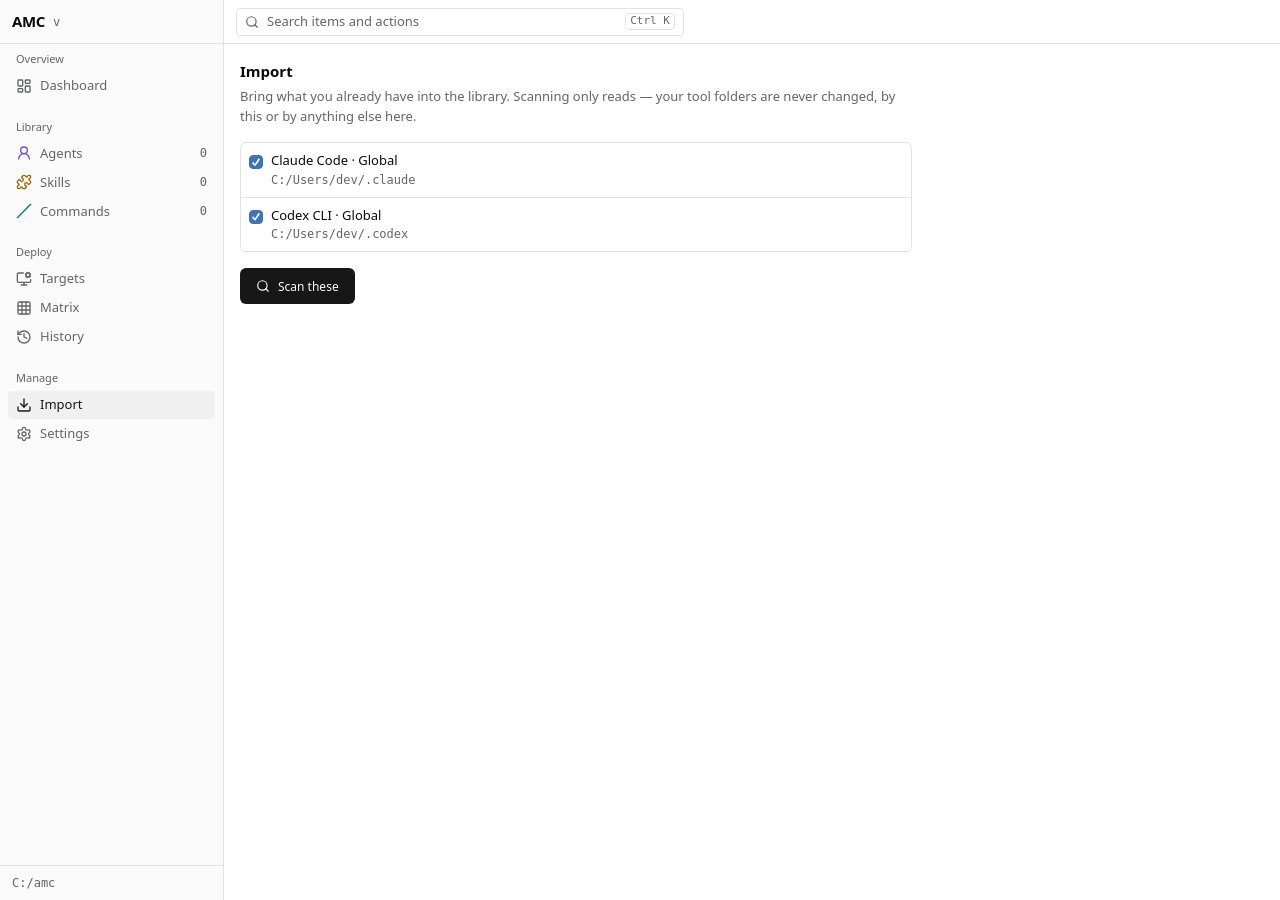
Test: reviewing what was found (T1.8.2, T1.8.5) › leaves out an item whose name is already taken, and proposes another
Step 1. Click the button "Scan these" → coordinates (297, 286), box top-left (240, 268), bottom-right (355, 304)
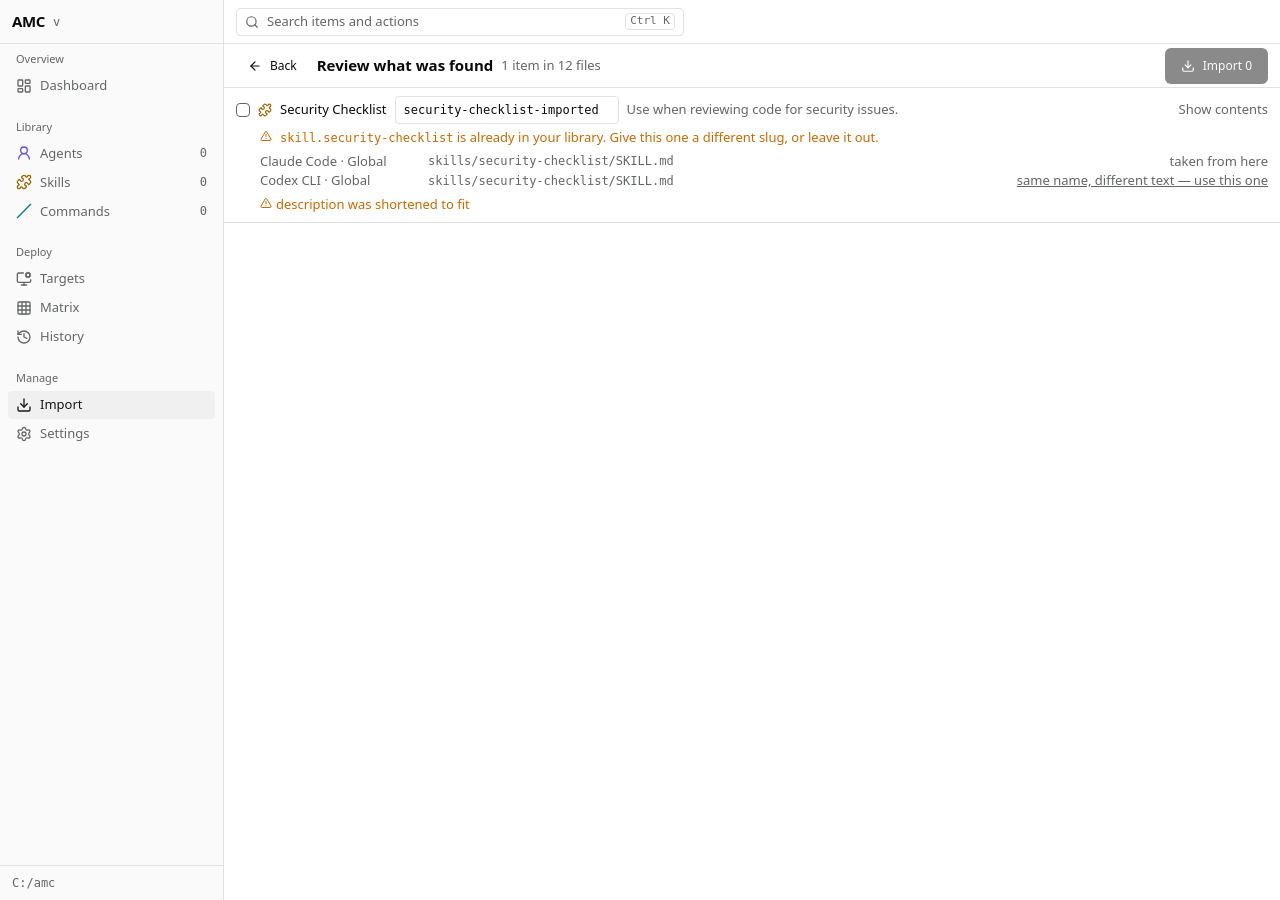
Result: the checkbox named "Import Security Checklist" is not checked at top-left (236, 103), bottom-right (250, 117)
Result: the field named "Slug for Security Checklist" holds "security-checklist-imported" at top-left (395, 96), bottom-right (619, 124)
Result: the text "already in your library" is shown at top-left (453, 128), bottom-right (879, 146)
